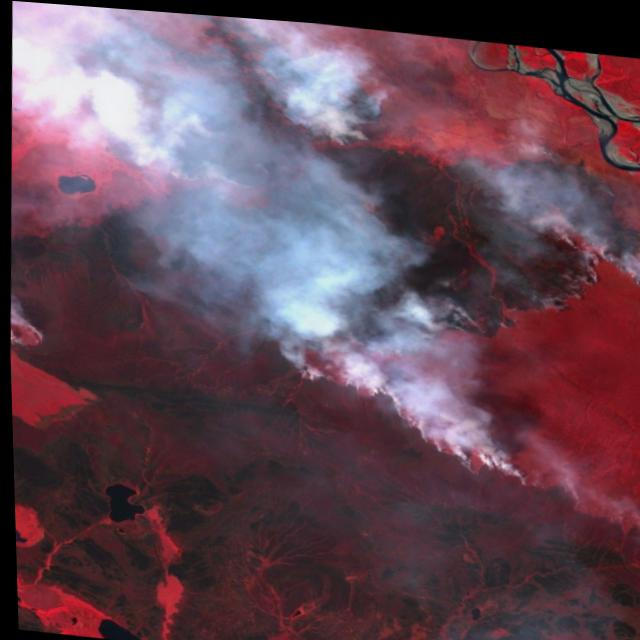fire: (0, 0, 640, 536)
